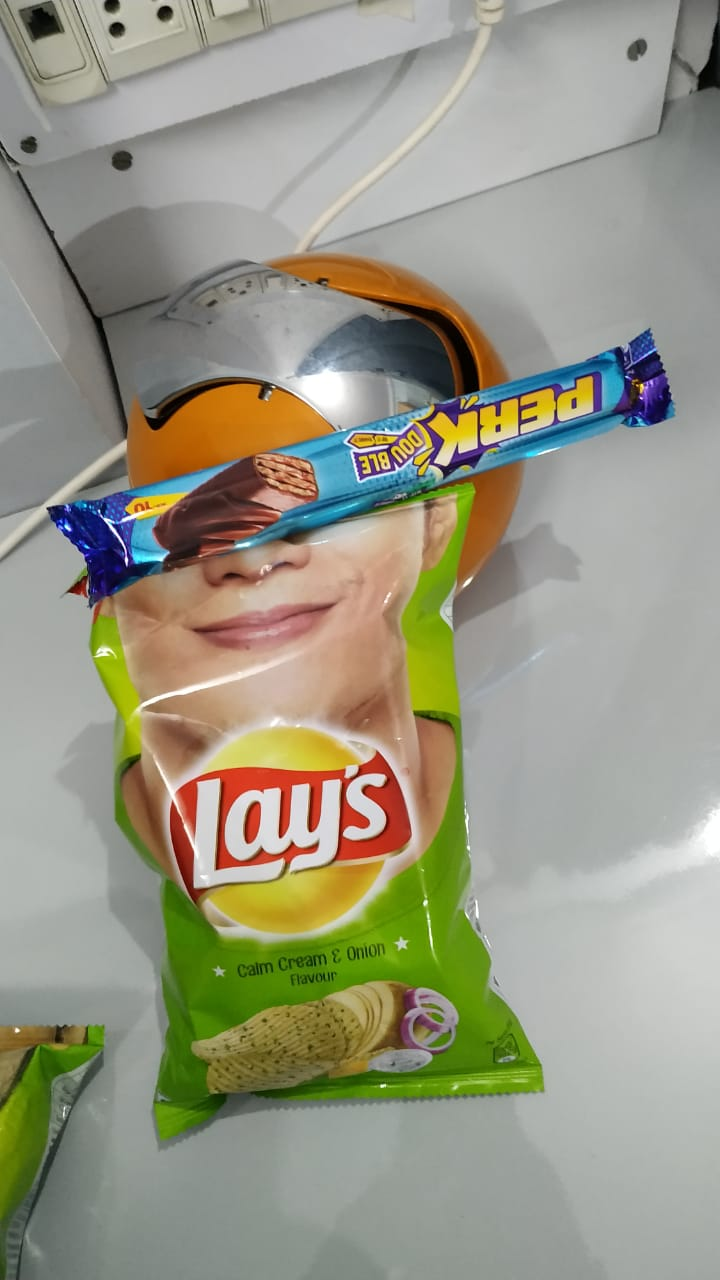lays chips: (64, 551, 548, 1117)
perk: (62, 306, 705, 610)
